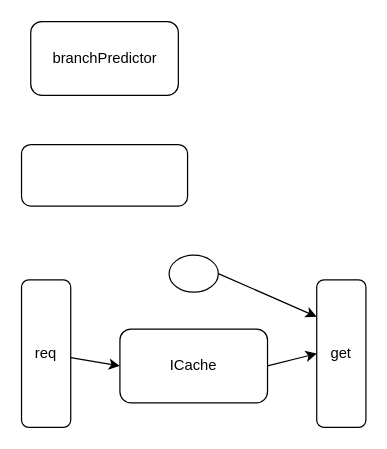
This 387x449 diagram has some shape labels left out. Here are the shapes that lost their labels. From the top down, the centre of each, then its label:
At (104,174): "FTB".
At (193,273): "PC".
